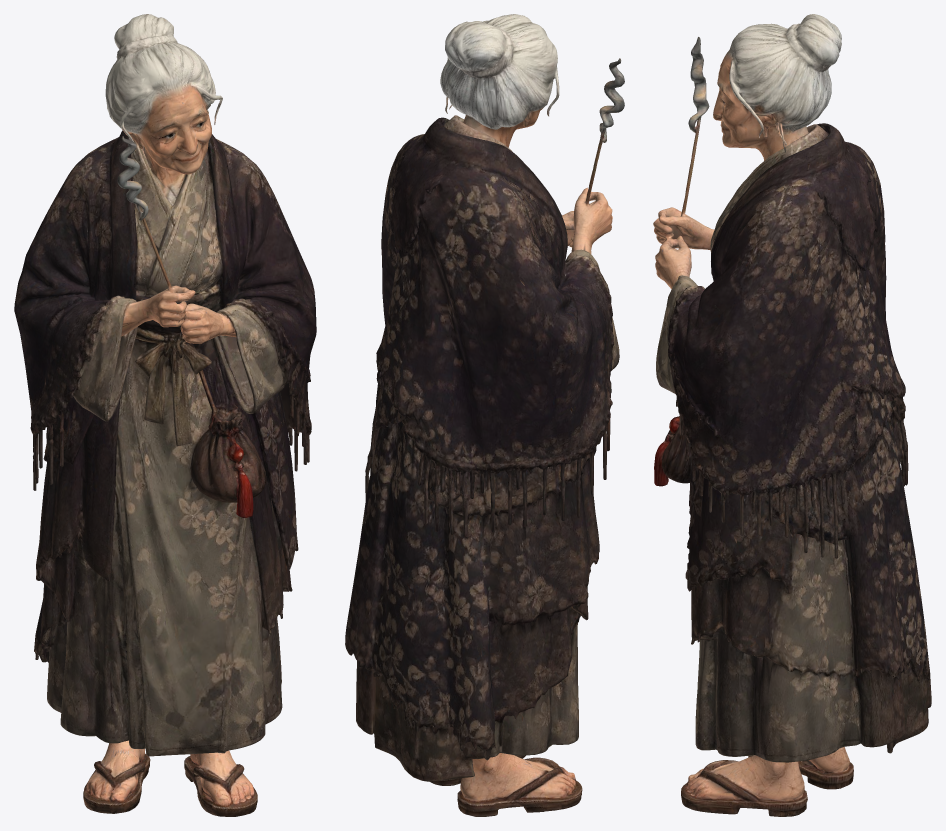
File: grandma.glb
3 renders of one model, left to right at view 1: azimuth 30°, elevation 25°; view 2: azimuth 150°, elevation 25°; view 3: azimuth 270°, elevation 25°, orthographic. The views are drawn at different scales.
Bounding box in the file's own units: 0.6293 × 1.9 × 0.6249.
Materials: 1 (1 with a texture image).
